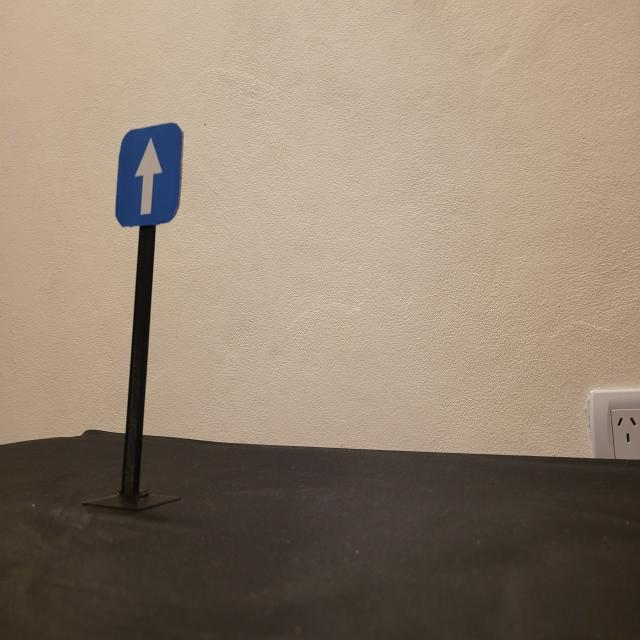one_way: (116, 122, 183, 227)
